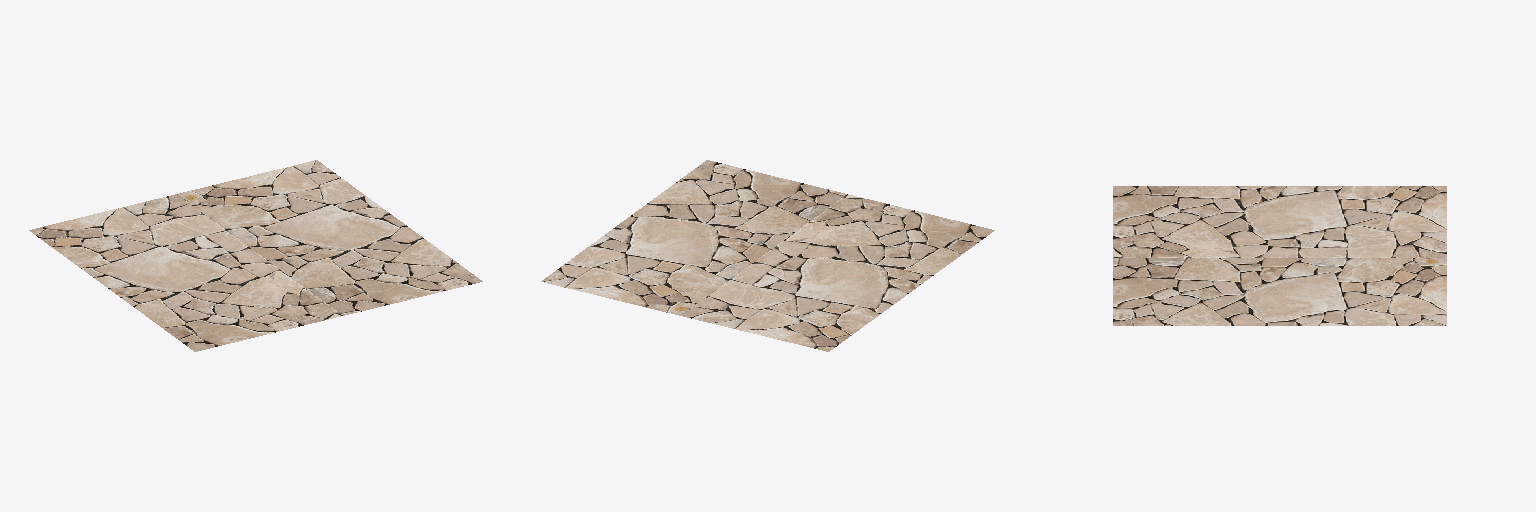
3 views of the same model, side by side, from view 1: azimuth 30°, elevation 25°; view 2: azimuth 150°, elevation 25°; view 3: azimuth 270°, elevation 25° (orthographic).
Visible parts, largest first — view 1: floor; view 2: floor; view 3: floor.
Part boxes in pixels (bbox=[...]): floor: bbox=[29, 160, 482, 351]; floor: bbox=[541, 160, 994, 351]; floor: bbox=[1113, 186, 1446, 325].
Size of the model in its own units: 2 by 0 by 2.
1 materials, 1 textured.